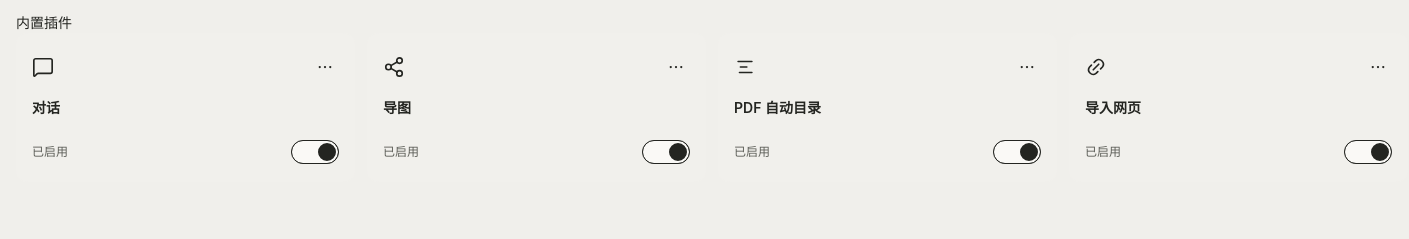
Test: restores a failed preference save and permits a fresh click to retry
The width and height of the screenshot is (1409, 239).
Click the checkbox named "对话": [315, 152] box [291, 140, 339, 164]
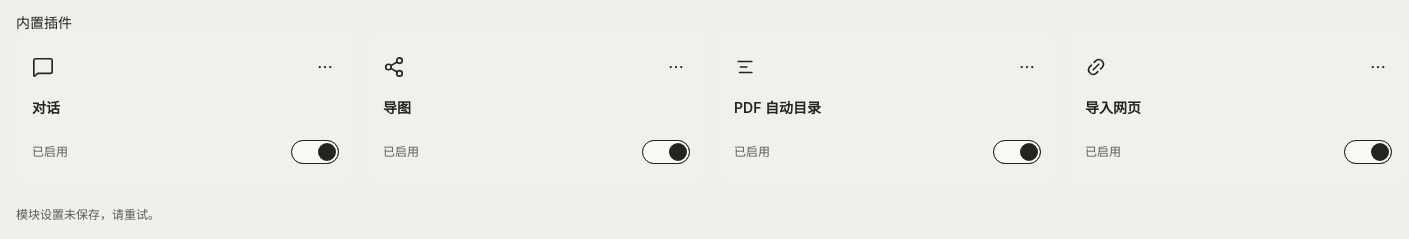
Check: the message "模块设置未保存，请重试。" is shown, box [16, 207, 160, 222]
Click the checkbox named "对话": [315, 152] box [291, 140, 339, 164]
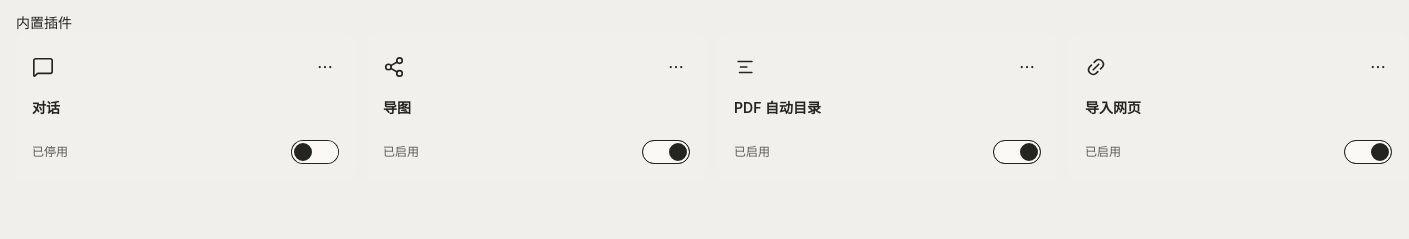
Check: the checkbox named "对话" is not checked, box [291, 140, 339, 164]
Check: the message "模块设置未保存，请重试。" is gone
